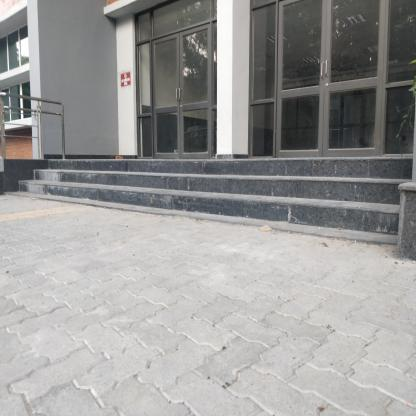stairs: (49, 160, 339, 213)
